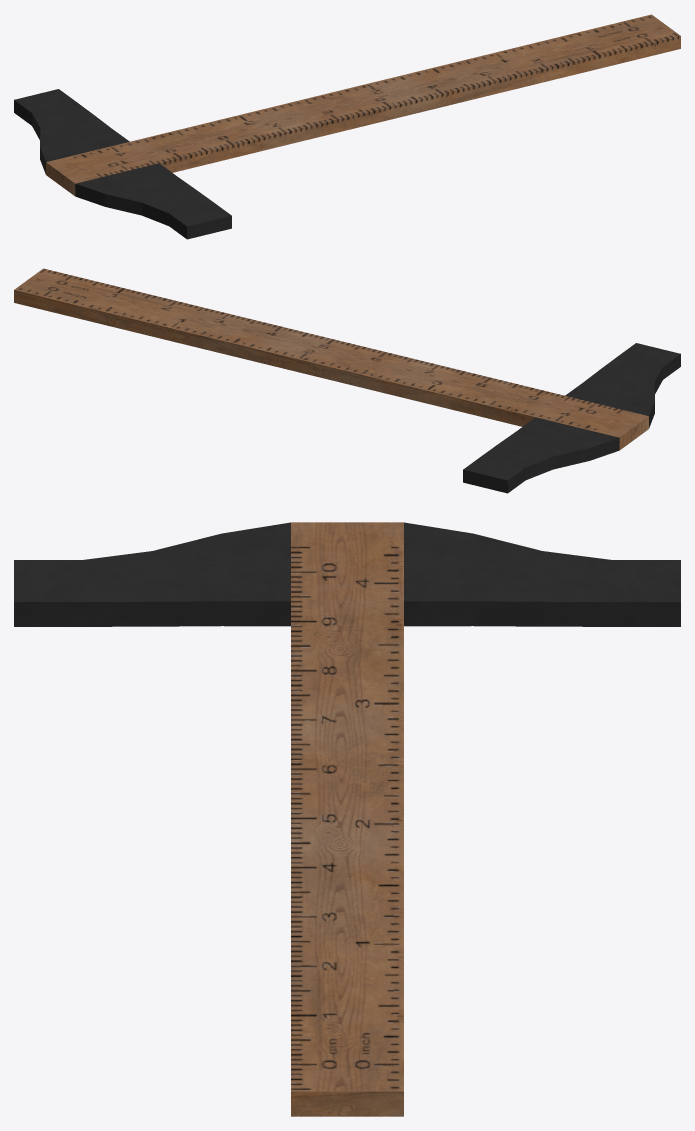
File: ReglaT.fbx
The picture shows the model from 3 angles, top to bottom: view 1: azimuth 30°, elevation 25°; view 2: azimuth 150°, elevation 25°; view 3: azimuth 270°, elevation 25°; orthographic projection. The views are drawn at different scales.
Parts seen in each view (by area): view 1: ReglaT; view 2: ReglaT; view 3: ReglaT.
Boxes of the visible parts, <box> form: ReglaT: <box>14,14,680,239</box>; ReglaT: <box>14,268,680,493</box>; ReglaT: <box>14,522,680,1116</box>.
Size of the model in its own units: 702 by 14.31 by 348.
Materials: 2 (2 with a texture image).
